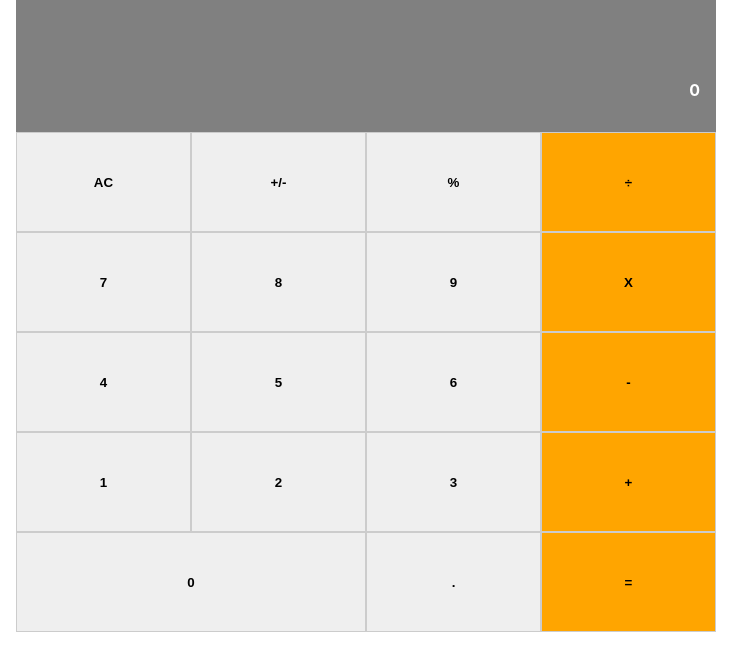
Test: Calculator component › Should print the value of the clicked buttons in the display
The width and height of the screenshot is (733, 649).
Click the button "5" at coordinates (278, 382), box [191, 332, 366, 432]
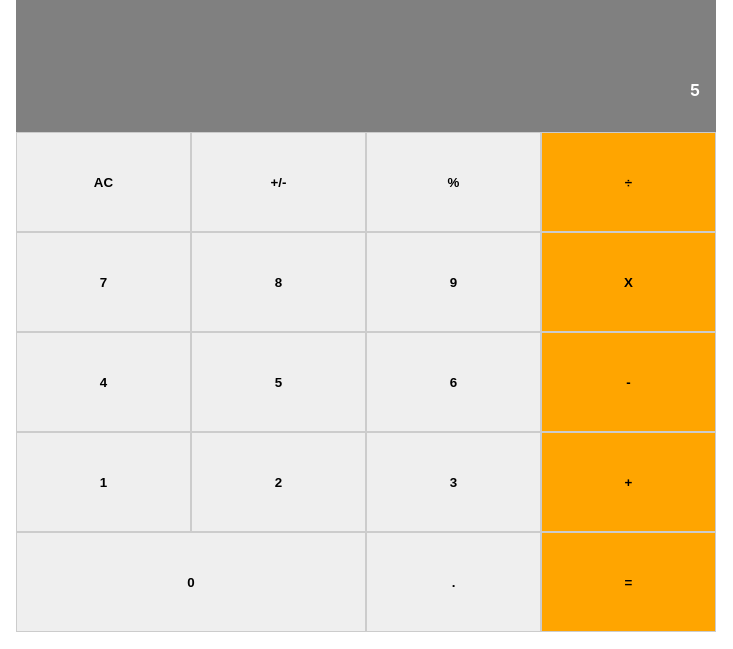
Click the button "9" at coordinates (454, 282), box [366, 232, 541, 332]
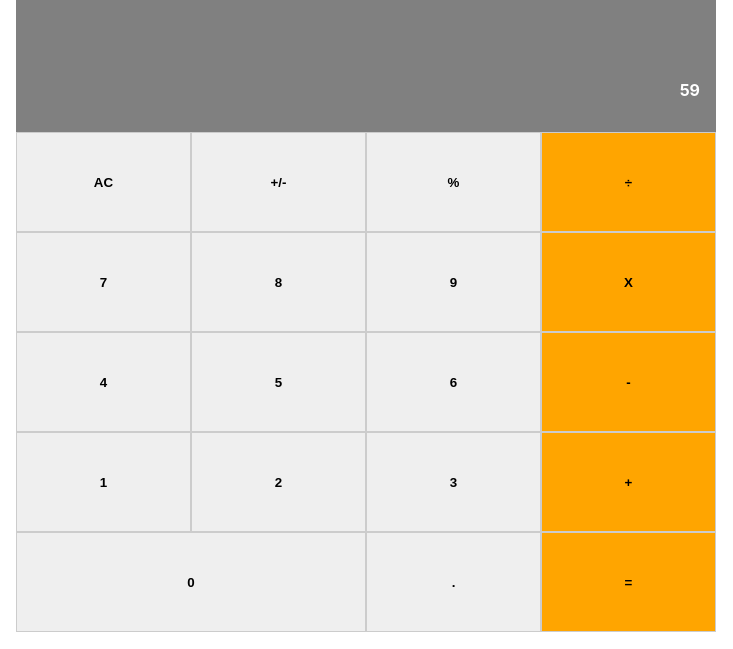
Check: the text "59" is shown, box [680, 80, 700, 100]
